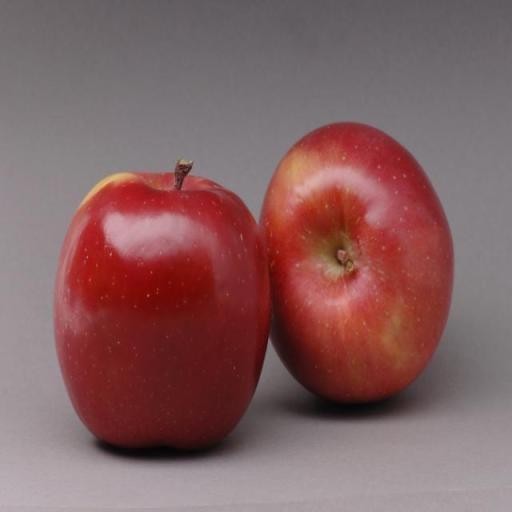fruit: (55, 161, 269, 448), (260, 124, 453, 402)
